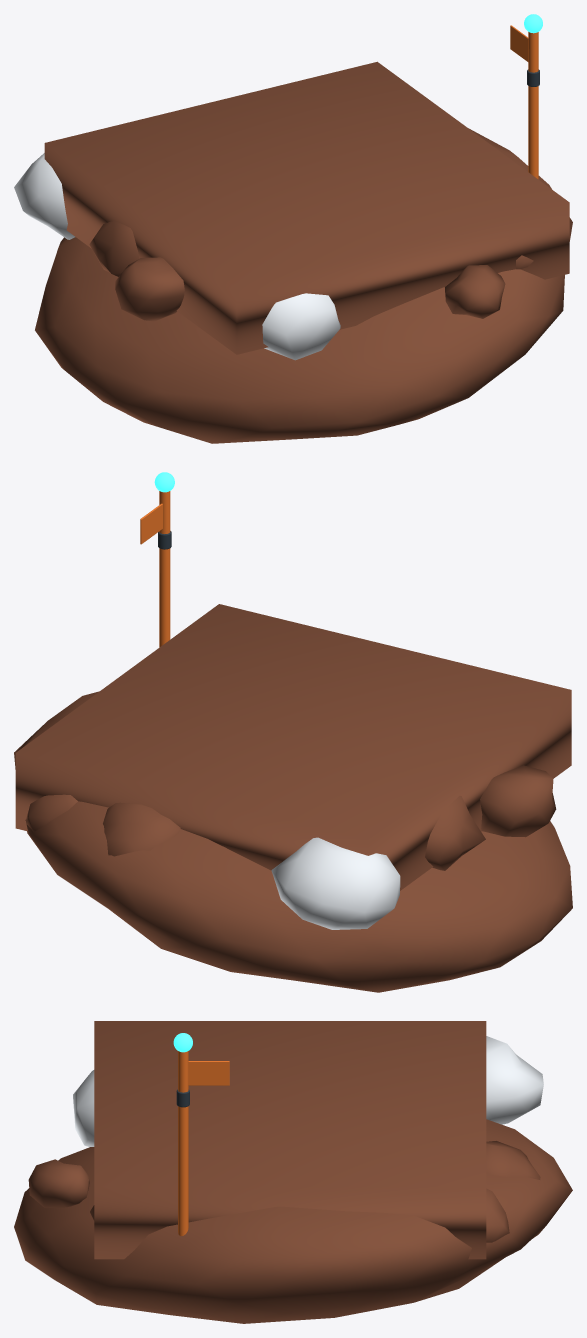
File: mine_ice.glb
3 views of the same model, one above another, from view 1: azimuth 30°, elevation 25°; view 2: azimuth 150°, elevation 25°; view 3: azimuth 270°, elevation 25° (orthographic). The views are drawn at different scales.
Parts seen in each view (by area): view 1: COL_mound, mound, boulder 6, boulder 5, boulder 3, boulder 7, boulder 4, stake; view 2: COL_mound, mound, boulder 3, boulder 5, boulder 2, boulder 4, stake, boulder 1; view 3: COL_mound, mound, boulder 3, boulder 7, stake, boulder 2, boulder 6, stake flag, boulder 1.
Boxes of the visible parts, x1=… form: COL_mound: x1=44, y1=61, x2=569, y2=354; mound: x1=35, y1=128, x2=572, y2=443; boulder 6: x1=262, y1=293, x2=340, y2=360; boulder 5: x1=115, y1=257, x2=184, y2=321; boulder 3: x1=14, y1=153, x2=75, y2=239; boulder 7: x1=445, y1=265, x2=505, y2=318; boulder 4: x1=89, y1=220, x2=139, y2=276; stake: x1=528, y1=32, x2=538, y2=179; COL_mound: x1=15, y1=604, x2=571, y2=890; mound: x1=14, y1=691, x2=572, y2=992; boulder 3: x1=271, y1=837, x2=400, y2=929; boulder 5: x1=480, y1=765, x2=556, y2=837; boulder 2: x1=103, y1=802, x2=180, y2=856; boulder 4: x1=425, y1=795, x2=485, y2=870; stake: x1=159, y1=491, x2=170, y2=647; boulder 1: x1=26, y1=794, x2=77, y2=831; COL_mound: x1=94, y1=1021, x2=486, y2=1259; mound: x1=14, y1=1119, x2=572, y2=1323; boulder 3: x1=486, y1=1036, x2=543, y2=1124; boulder 7: x1=28, y1=1159, x2=89, y2=1207; stake: x1=178, y1=1051, x2=188, y2=1235; boulder 2: x1=486, y1=1141, x2=540, y2=1179; boulder 6: x1=73, y1=1070, x2=94, y2=1146; stake flag: x1=188, y1=1061, x2=229, y2=1085; boulder 1: x1=486, y1=1188, x2=509, y2=1242.
Bounding box in the file's own units: 6.13 × 4.38 × 6.27.
